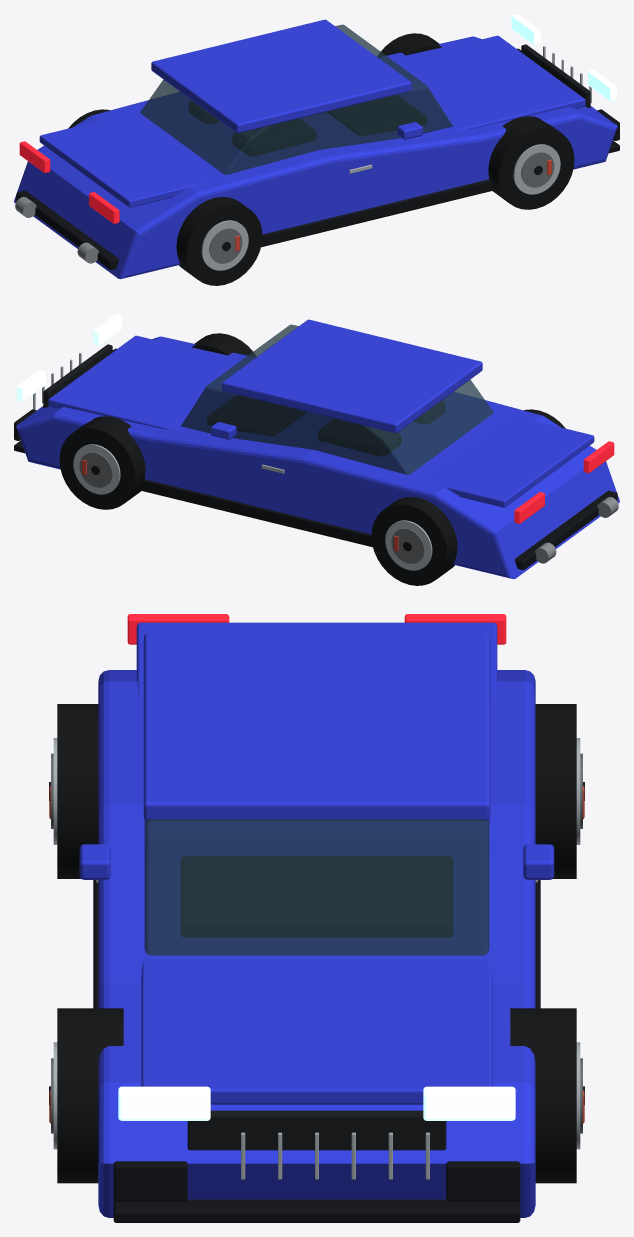
File: ford_mustang_gt.glb
3 renders of one model, top to bottom at view 1: azimuth 30°, elevation 25°; view 2: azimuth 150°, elevation 25°; view 3: azimuth 270°, elevation 25°, orthographic. The views are drawn at different scales.
Visible parts, largest first — view 1: sculpted_body, roof, glasshouse, hood_center, rear_deck, front_right_wheel_tire, rear_right_wheel_tire, side_skirt_1, dashboard, seat_1, rear_diffuser, front_right_wheel_rim (+9 smaller); view 2: sculpted_body, roof, glasshouse, hood_center, rear_deck, front_left_wheel_tire, rear_left_wheel_tire, side_skirt_-1, dashboard, seat_-1, rear_diffuser, front_left_wheel_rim (+9 smaller); view 3: sculpted_body, roof, hood_center, glasshouse, dashboard, front_grille, front_splitter, front_left_wheel_tire, front_right_wheel_tire, rear_left_wheel_tire, rear_right_wheel_tire, rear_deck (+8 smaller).
Boxes of the visible parts, x1=… form: sculpted_body: x1=14, y1=36, x2=617, y2=279; roof: x1=151, y1=19, x2=411, y2=133; glasshouse: x1=140, y1=24, x2=452, y2=174; hood_center: x1=386, y1=35, x2=585, y2=130; rear_deck: x1=39, y1=116, x2=209, y2=207; front_right_wheel_tire: x1=488, y1=116, x2=574, y2=209; rear_right_wheel_tire: x1=176, y1=197, x2=262, y2=285; side_skirt_1: x1=261, y1=179, x2=494, y2=247; dashboard: x1=327, y1=95, x2=426, y2=135; seat_1: x1=233, y1=119, x2=315, y2=155; rear_diffuser: x1=16, y1=190, x2=118, y2=269; front_right_wheel_rim: x1=513, y1=144, x2=560, y2=194; sculpted_body: x1=16, y1=336, x2=619, y2=579; roof: x1=222, y1=319, x2=482, y2=433; glasshouse: x1=181, y1=324, x2=493, y2=474; hood_center: x1=48, y1=335, x2=247, y2=430; rear_deck: x1=424, y1=416, x2=594, y2=507; front_left_wheel_tire: x1=59, y1=416, x2=145, y2=509; rear_left_wheel_tire: x1=371, y1=497, x2=457, y2=585; side_skirt_-1: x1=139, y1=479, x2=372, y2=547; dashboard: x1=207, y1=395, x2=306, y2=435; seat_-1: x1=318, y1=419, x2=400, y2=455; rear_diffuser: x1=515, y1=490, x2=617, y2=569; front_left_wheel_rim: x1=73, y1=444, x2=120, y2=494; sculpted_body: x1=98, y1=670, x2=535, y2=1217; roof: x1=143, y1=633, x2=490, y2=820; hood_center: x1=141, y1=959, x2=492, y2=1104; glasshouse: x1=144, y1=819, x2=489, y2=955; dashboard: x1=181, y1=857, x2=452, y2=936; front_grille: x1=187, y1=1110, x2=446, y2=1150; front_splitter: x1=113, y1=1199, x2=520, y2=1222; front_left_wheel_tire: x1=510, y1=1008, x2=576, y2=1183; front_right_wheel_tire: x1=57, y1=1008, x2=123, y2=1183; rear_left_wheel_tire: x1=535, y1=704, x2=576, y2=878; rear_right_wheel_tire: x1=57, y1=704, x2=98, y2=878; rear_deck: x1=136, y1=622, x2=497, y2=701.
Size of the model in its own units: 5.09 by 1.27 by 2.26.
